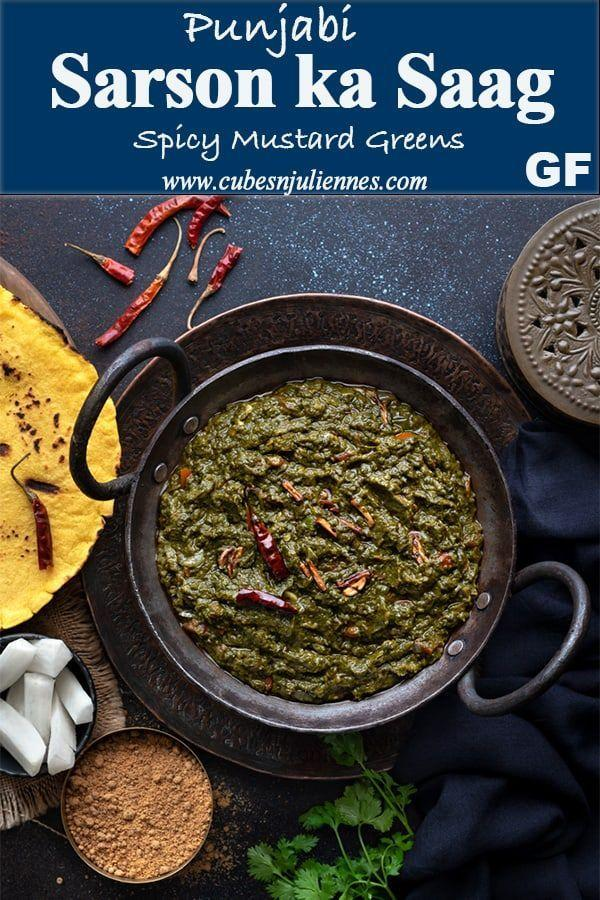saag: (163, 379, 487, 707)
